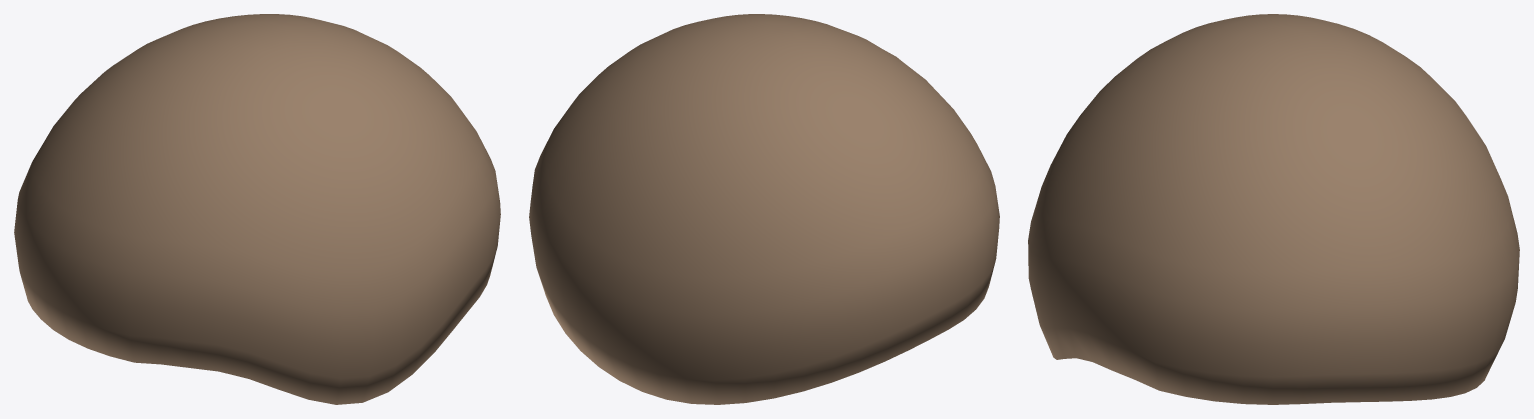
File: hair-boy-2.glb
3 views of the same model, side by side, from view 1: azimuth 30°, elevation 25°; view 2: azimuth 150°, elevation 25°; view 3: azimuth 270°, elevation 25° (orthographic). The views are drawn at different scales.
Parts seen in each view (by area): view 1: Hair_Boy_2; view 2: Hair_Boy_2; view 3: Hair_Boy_2.
Part boxes in pixels (x1=…): Hair_Boy_2: x1=14, y1=14, x2=500, y2=404; Hair_Boy_2: x1=529, y1=14, x2=999, y2=404; Hair_Boy_2: x1=1028, y1=14, x2=1519, y2=404.
Bounding box in the file's own units: 0.5709 × 0.3839 × 0.5346.
